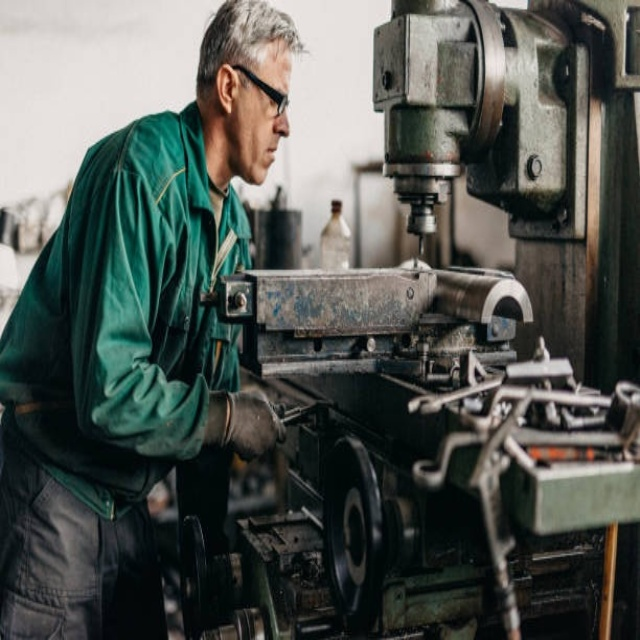Gafas: (230, 65, 290, 117)
Guantes: (205, 386, 287, 462)
Sin_mascara: (247, 135, 280, 187)
